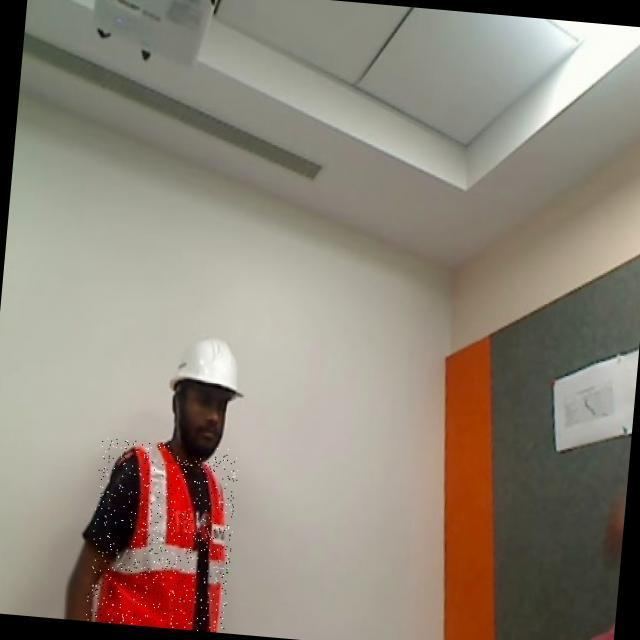helmet: (161, 333, 250, 413)
vest: (85, 438, 240, 633)
